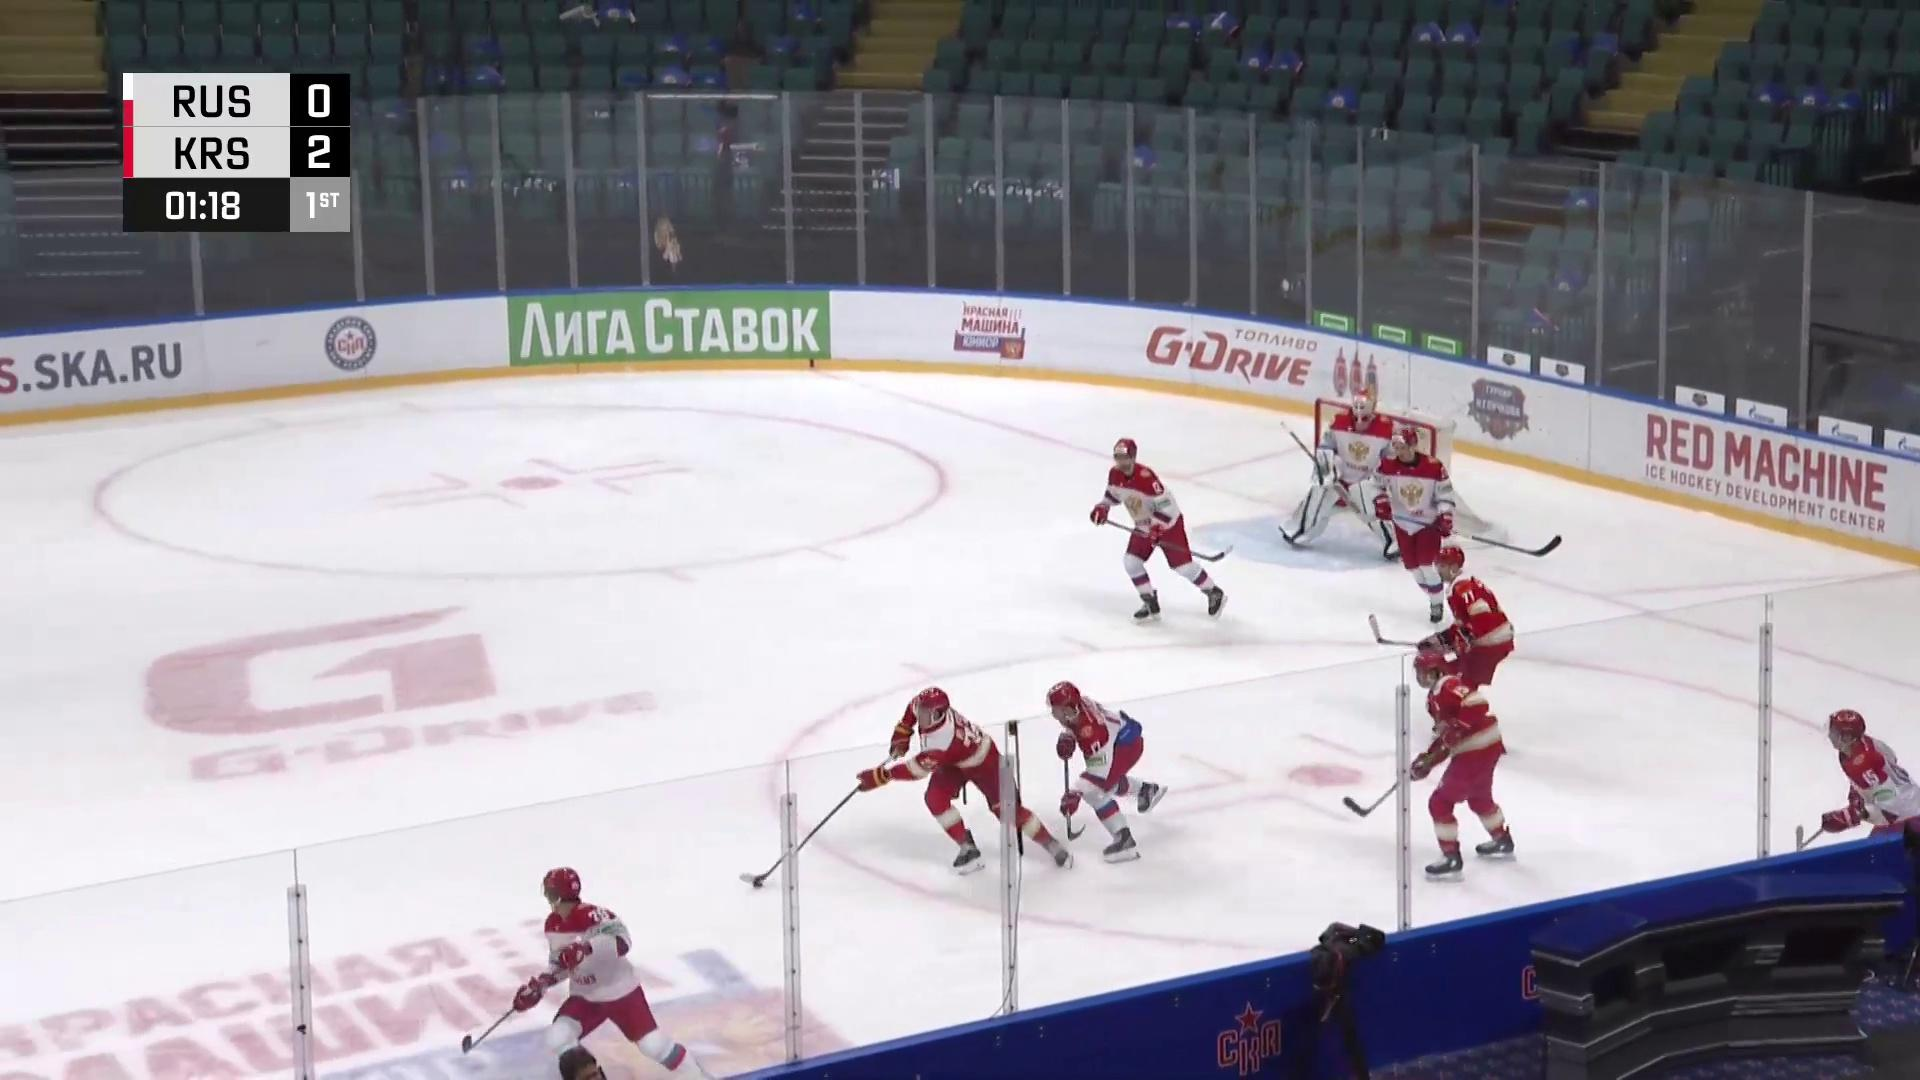ball: (749, 880, 769, 889)
